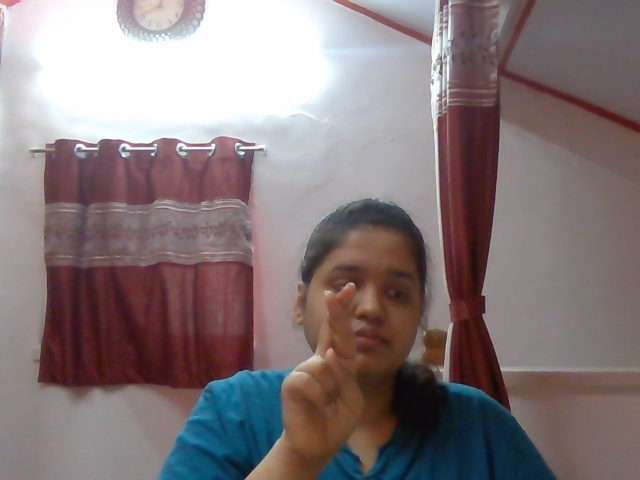r: (279, 278, 362, 453)
